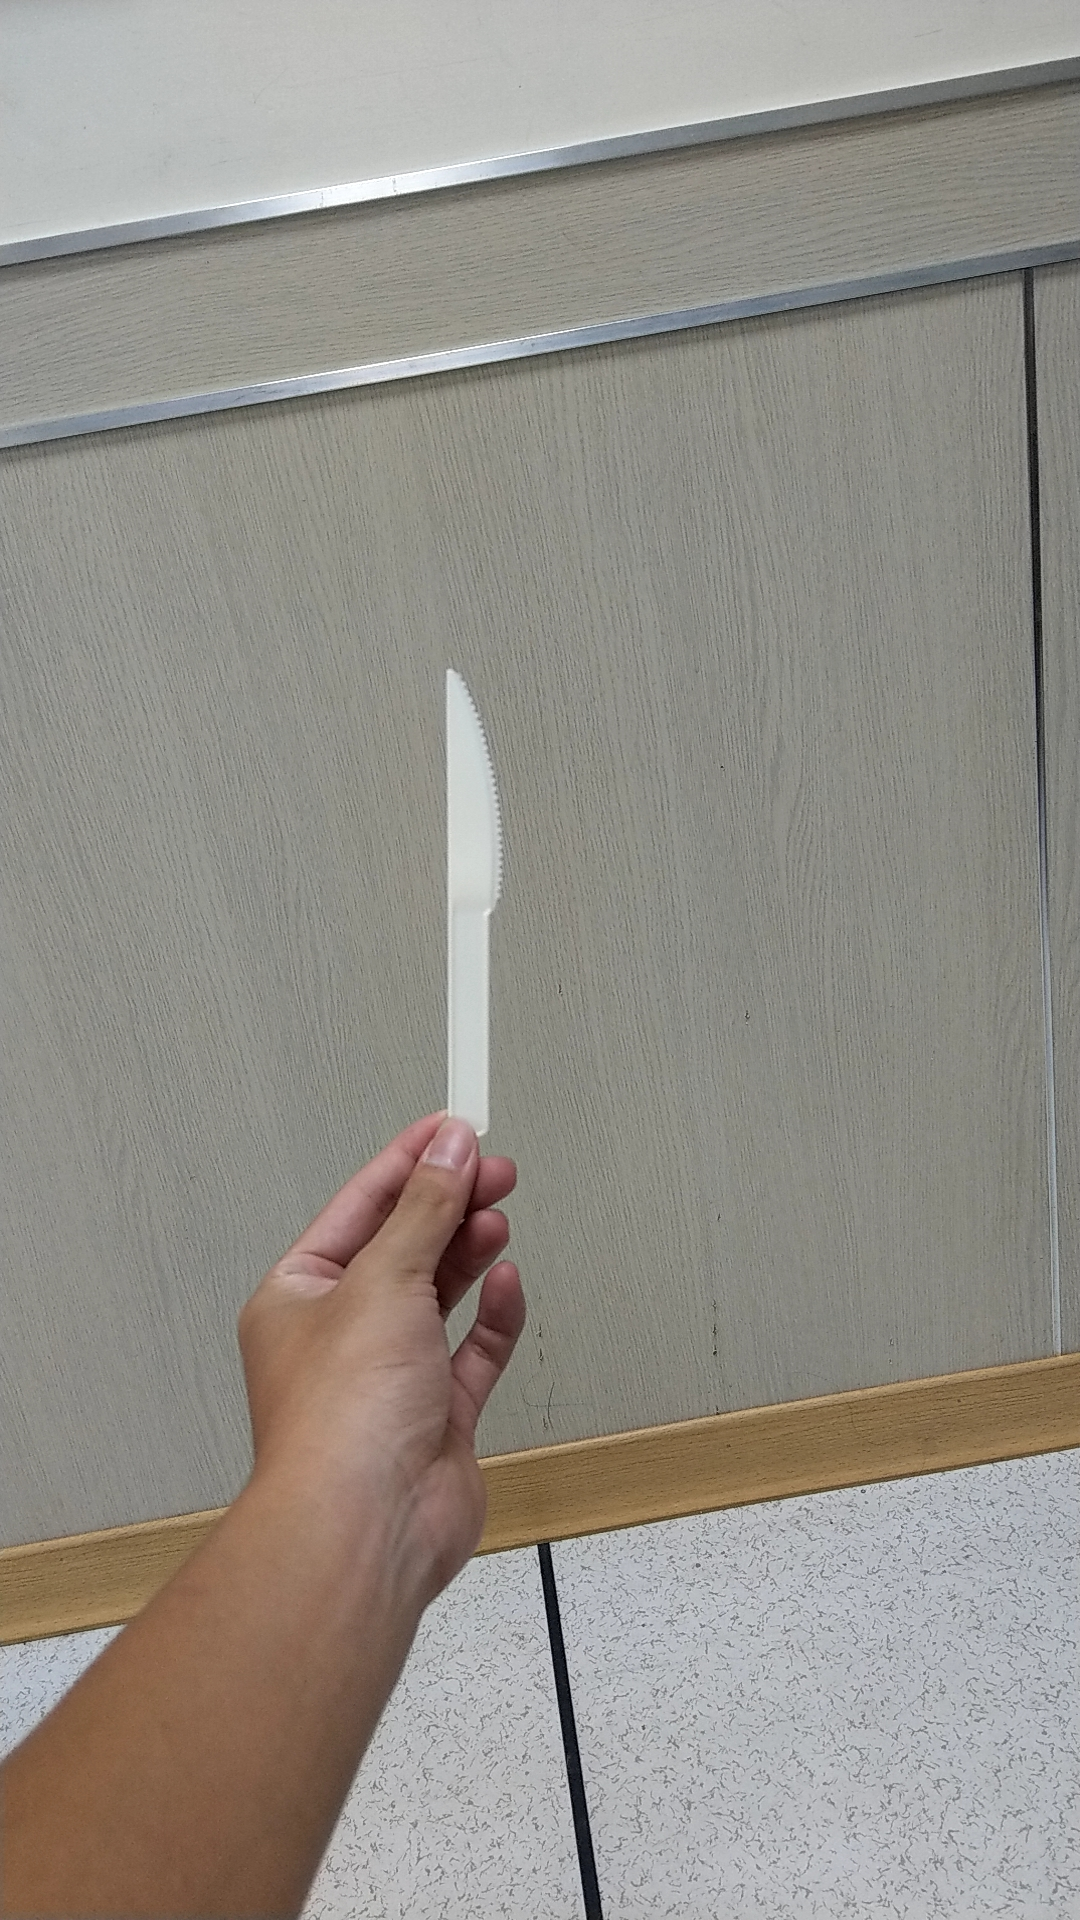knife: (418, 640, 541, 1122)
